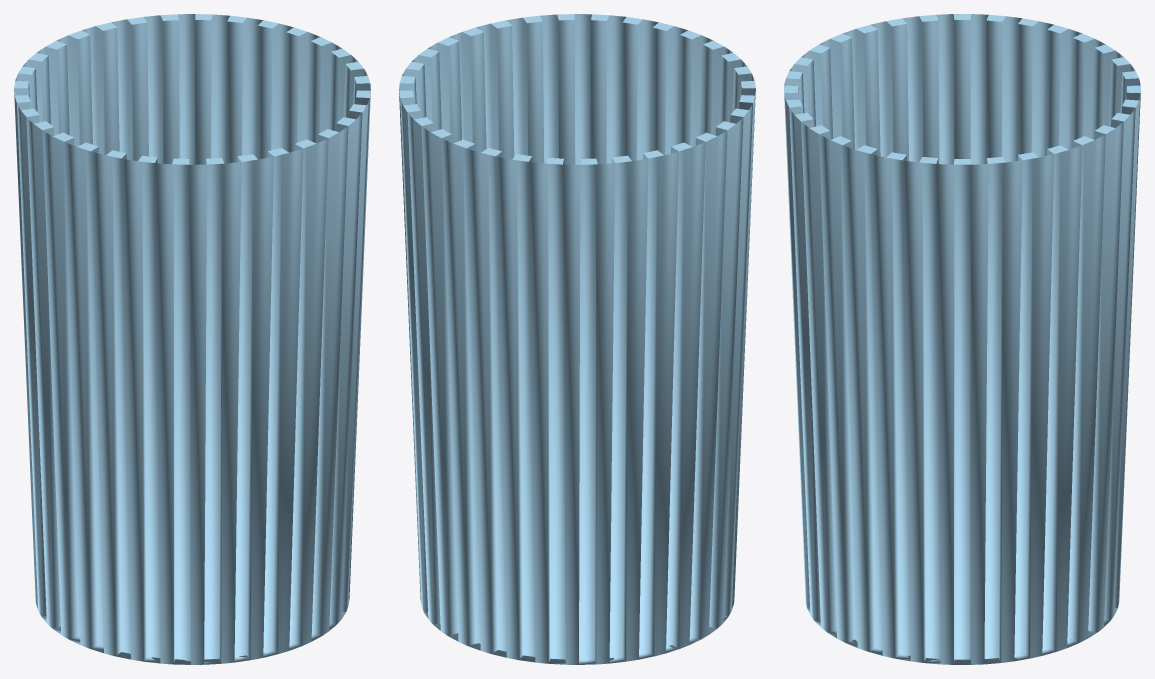
The model's file is juiceCup.obj.
The picture shows the model from 3 angles, left to right: view 1: azimuth 30°, elevation 25°; view 2: azimuth 150°, elevation 25°; view 3: azimuth 270°, elevation 25°; orthographic projection.
Visible parts, largest first — view 1: Cylinder.001; view 2: Cylinder.001; view 3: Cylinder.001.
Part boxes in pixels (box(x1,y1,x2,y2)): Cylinder.001: box(14, 14, 370, 664); Cylinder.001: box(399, 14, 755, 664); Cylinder.001: box(784, 14, 1140, 664).
Size of the model in its own units: 1.99 by 3.14 by 1.99.
Materials: 1 (1 with a texture image).
